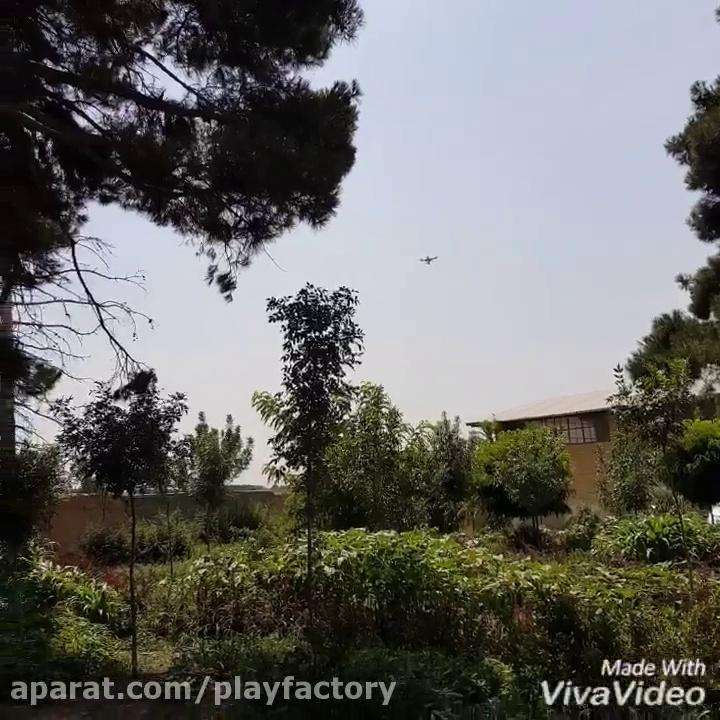drone: (416, 247, 441, 267)
